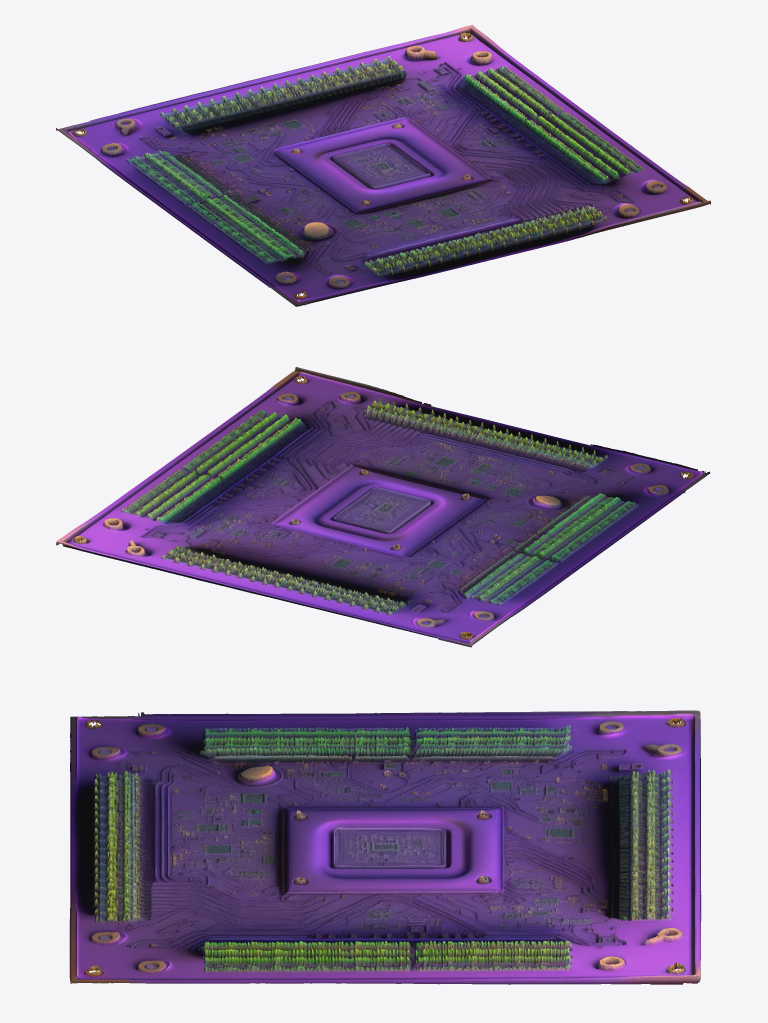
3 renders of one model, top to bottom at view 1: azimuth 30°, elevation 25°; view 2: azimuth 150°, elevation 25°; view 3: azimuth 270°, elevation 25°, orthographic. The views are drawn at different scales.
Visible parts, largest first — view 1: Object_4; view 2: Object_4; view 3: Object_4.
Part boxes in pixels (bbox=[...]): Object_4: bbox=[56, 25, 710, 306]; Object_4: bbox=[56, 367, 710, 647]; Object_4: bbox=[69, 710, 701, 984].
Bounding box in the file's own units: 2 × 0.0385 × 2.
Materials: 1 (1 with a texture image).
